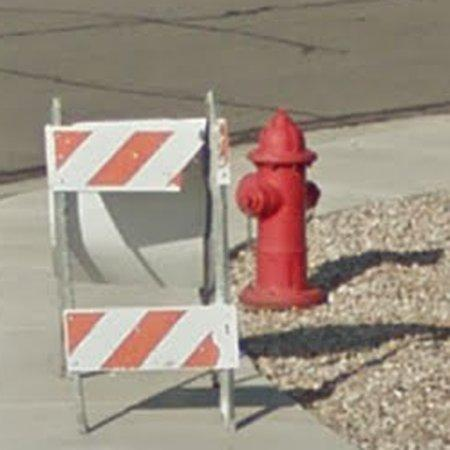a fire hydrant: (237, 109, 326, 310)
